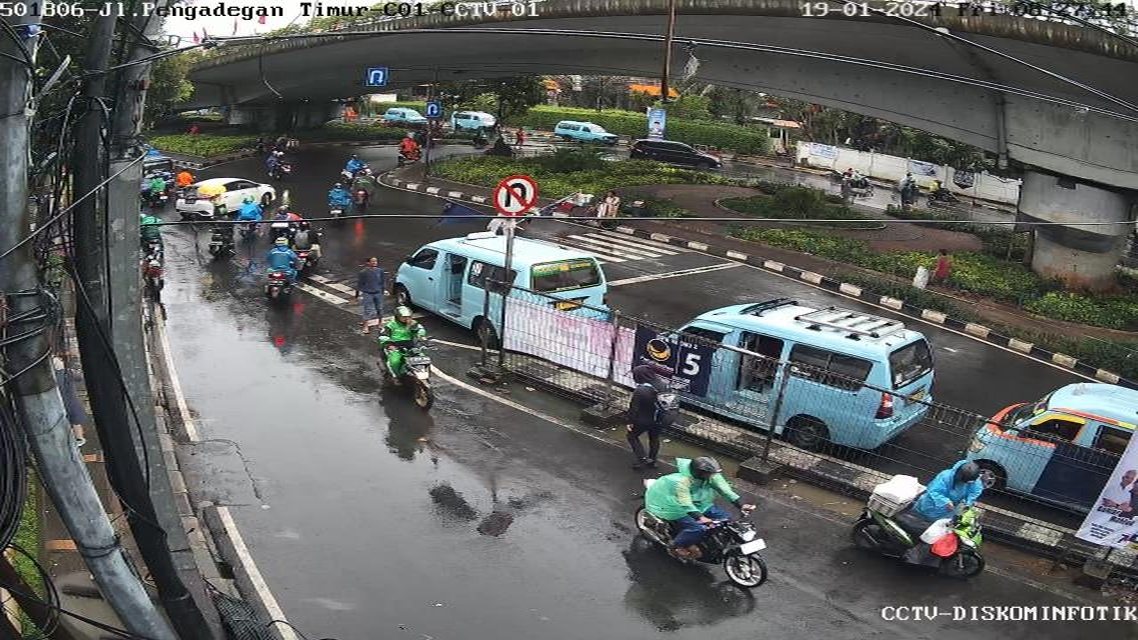Sepeda-motor: (567, 188, 626, 230)
